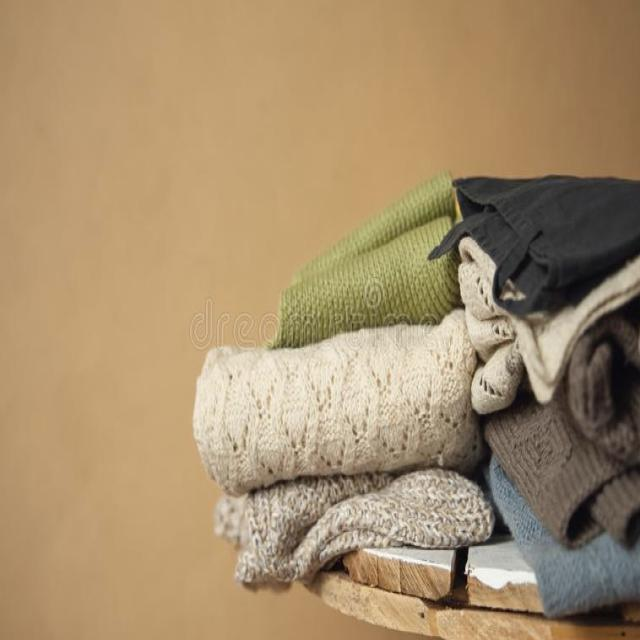clothes: (203, 202, 477, 630), (462, 172, 640, 640)
